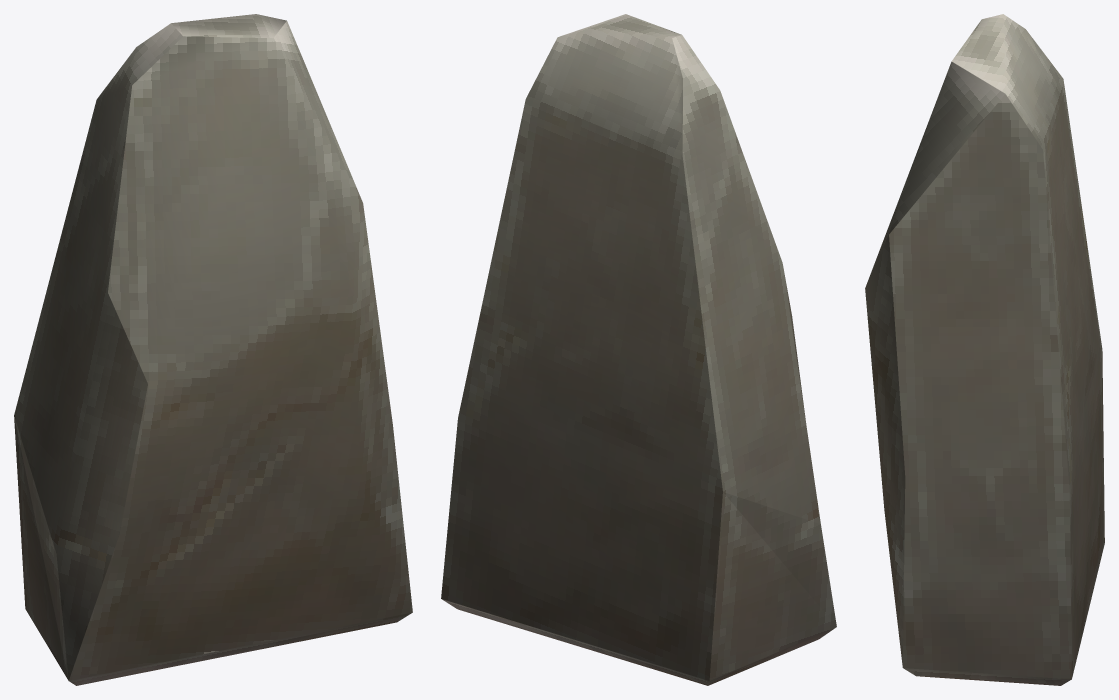
The model's file is pedra_08.glb.
3 views of the same model, side by side, from view 1: azimuth 30°, elevation 25°; view 2: azimuth 150°, elevation 25°; view 3: azimuth 270°, elevation 25° (orthographic). The views are drawn at different scales.
Visible parts, largest first — view 1: SM_Rocks_08; view 2: SM_Rocks_08; view 3: SM_Rocks_08.
Boxes of the visible parts, box(x1,y1,x2,y2) form: SM_Rocks_08: box(14, 14, 412, 685); SM_Rocks_08: box(441, 14, 836, 685); SM_Rocks_08: box(865, 14, 1104, 685).
Size of the model in its own units: 0.5629 by 0.9758 by 0.3634.
1 material, 1 textured.
